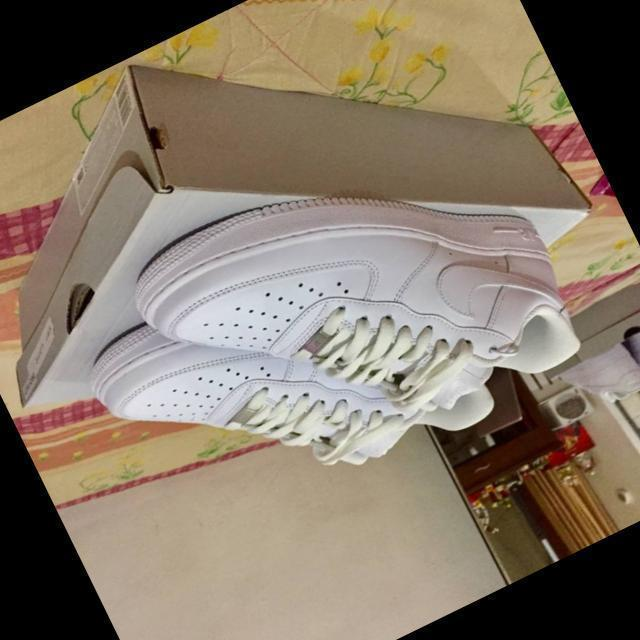nike original air force: (117, 82, 616, 520), (70, 199, 503, 572)
